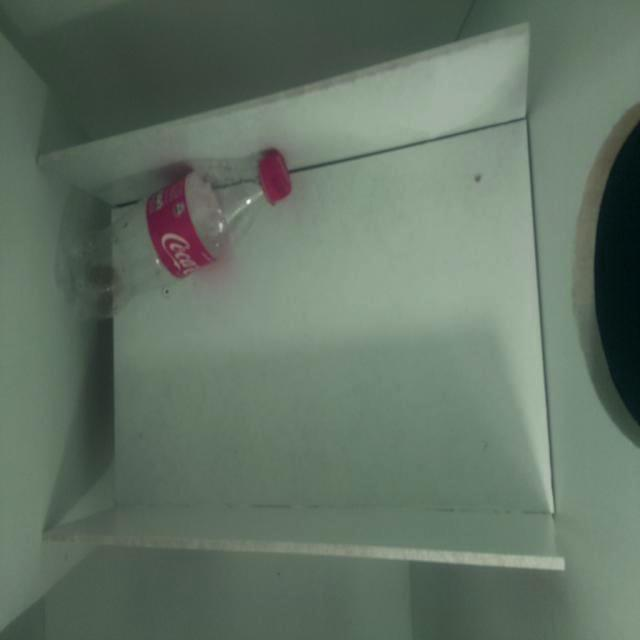bottle: (56, 149, 294, 322)
